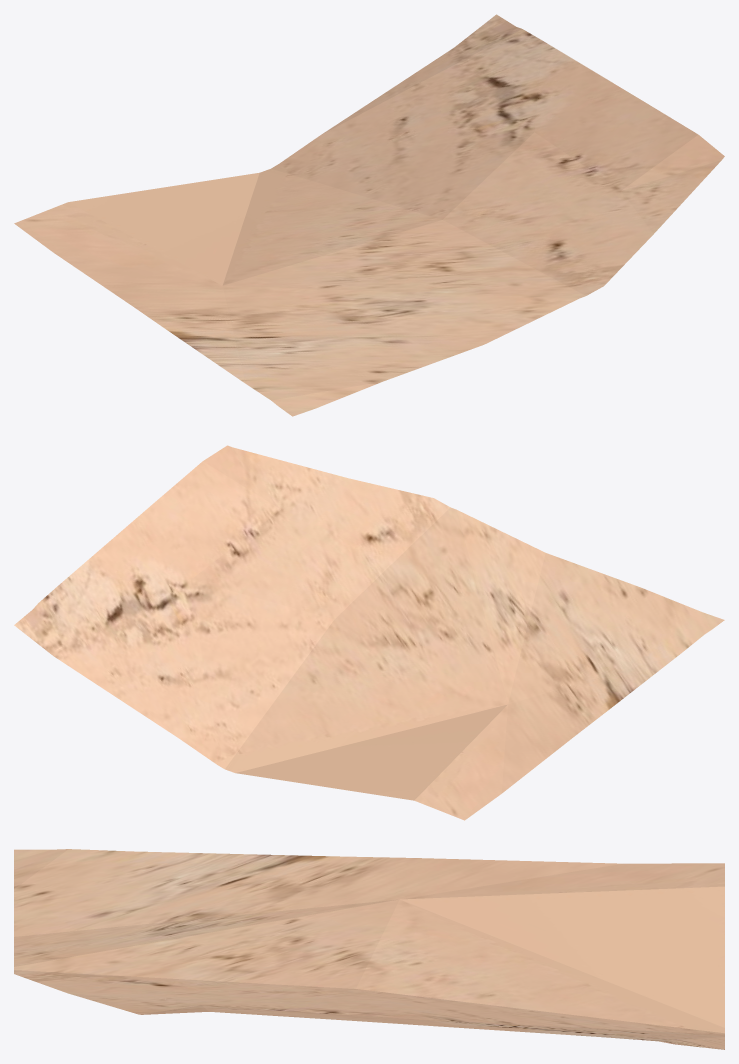
3 renders of one model, top to bottom at view 1: azimuth 30°, elevation 25°; view 2: azimuth 150°, elevation 25°; view 3: azimuth 270°, elevation 25°, orthographic. The views are drawn at different scales.
Bounding box in the file's own units: 1.04 × 0.2652 × 1.04.
3 materials, 3 textured.
